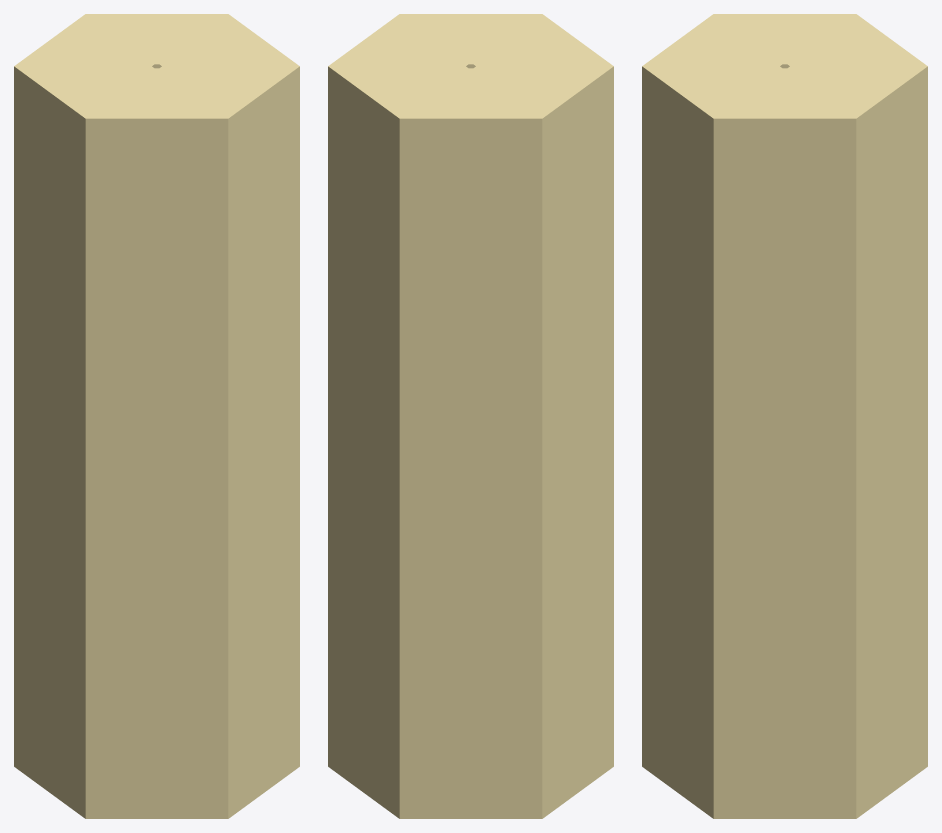
File: candle-003.glb
3 views of the same model, side by side, from view 1: azimuth 30°, elevation 25°; view 2: azimuth 150°, elevation 25°; view 3: azimuth 270°, elevation 25° (orthographic).
Visible parts, largest first — view 1: candle.003; view 2: candle.003; view 3: candle.003.
Boxes of the visible parts, <box> form: candle.003: <box>14,14,299,818</box>; candle.003: <box>328,14,613,818</box>; candle.003: <box>642,14,927,818</box>.
Size of the model in its own units: 1.73 by 5.41 by 2.
